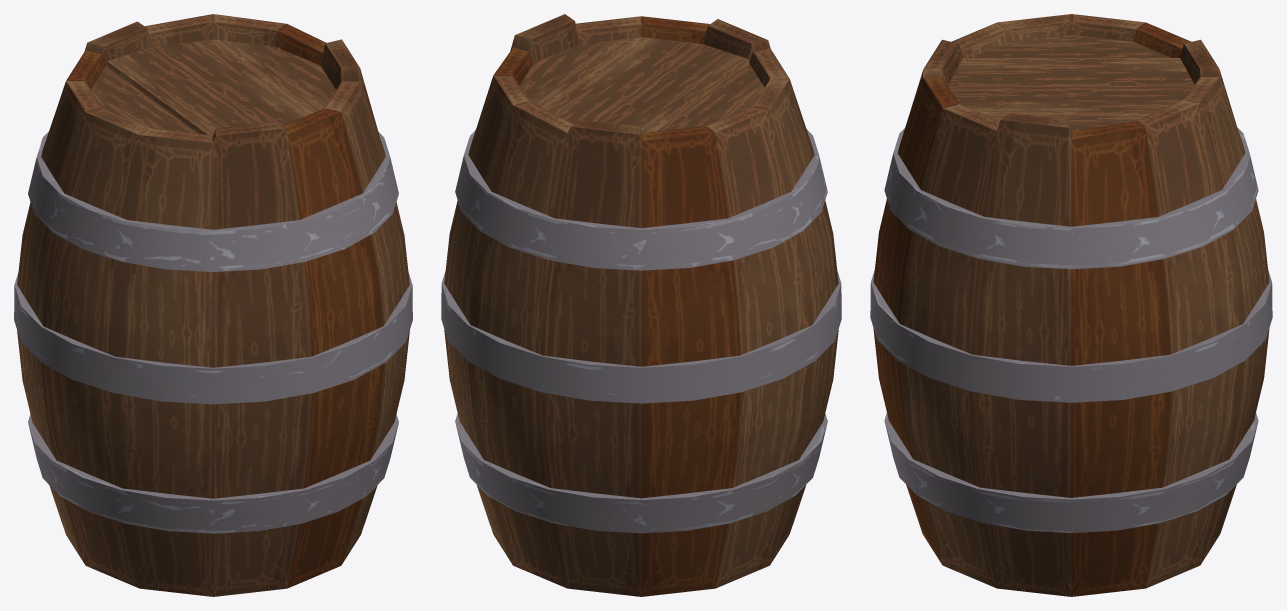
File: Barrel.gltf
3 renders of one model, left to right at view 1: azimuth 30°, elevation 25°; view 2: azimuth 150°, elevation 25°; view 3: azimuth 270°, elevation 25°, orthographic.
Parts seen in each view (by area): view 1: Barrel; view 2: Barrel; view 3: Barrel.
Boxes of the visible parts, x1,y1,x2,y2 form: Barrel: [14, 14, 412, 596]; Barrel: [441, 14, 841, 596]; Barrel: [870, 14, 1272, 596].
Size of the model in its own units: 0.698 by 0.898 by 0.698.
2 materials, 2 textured.
